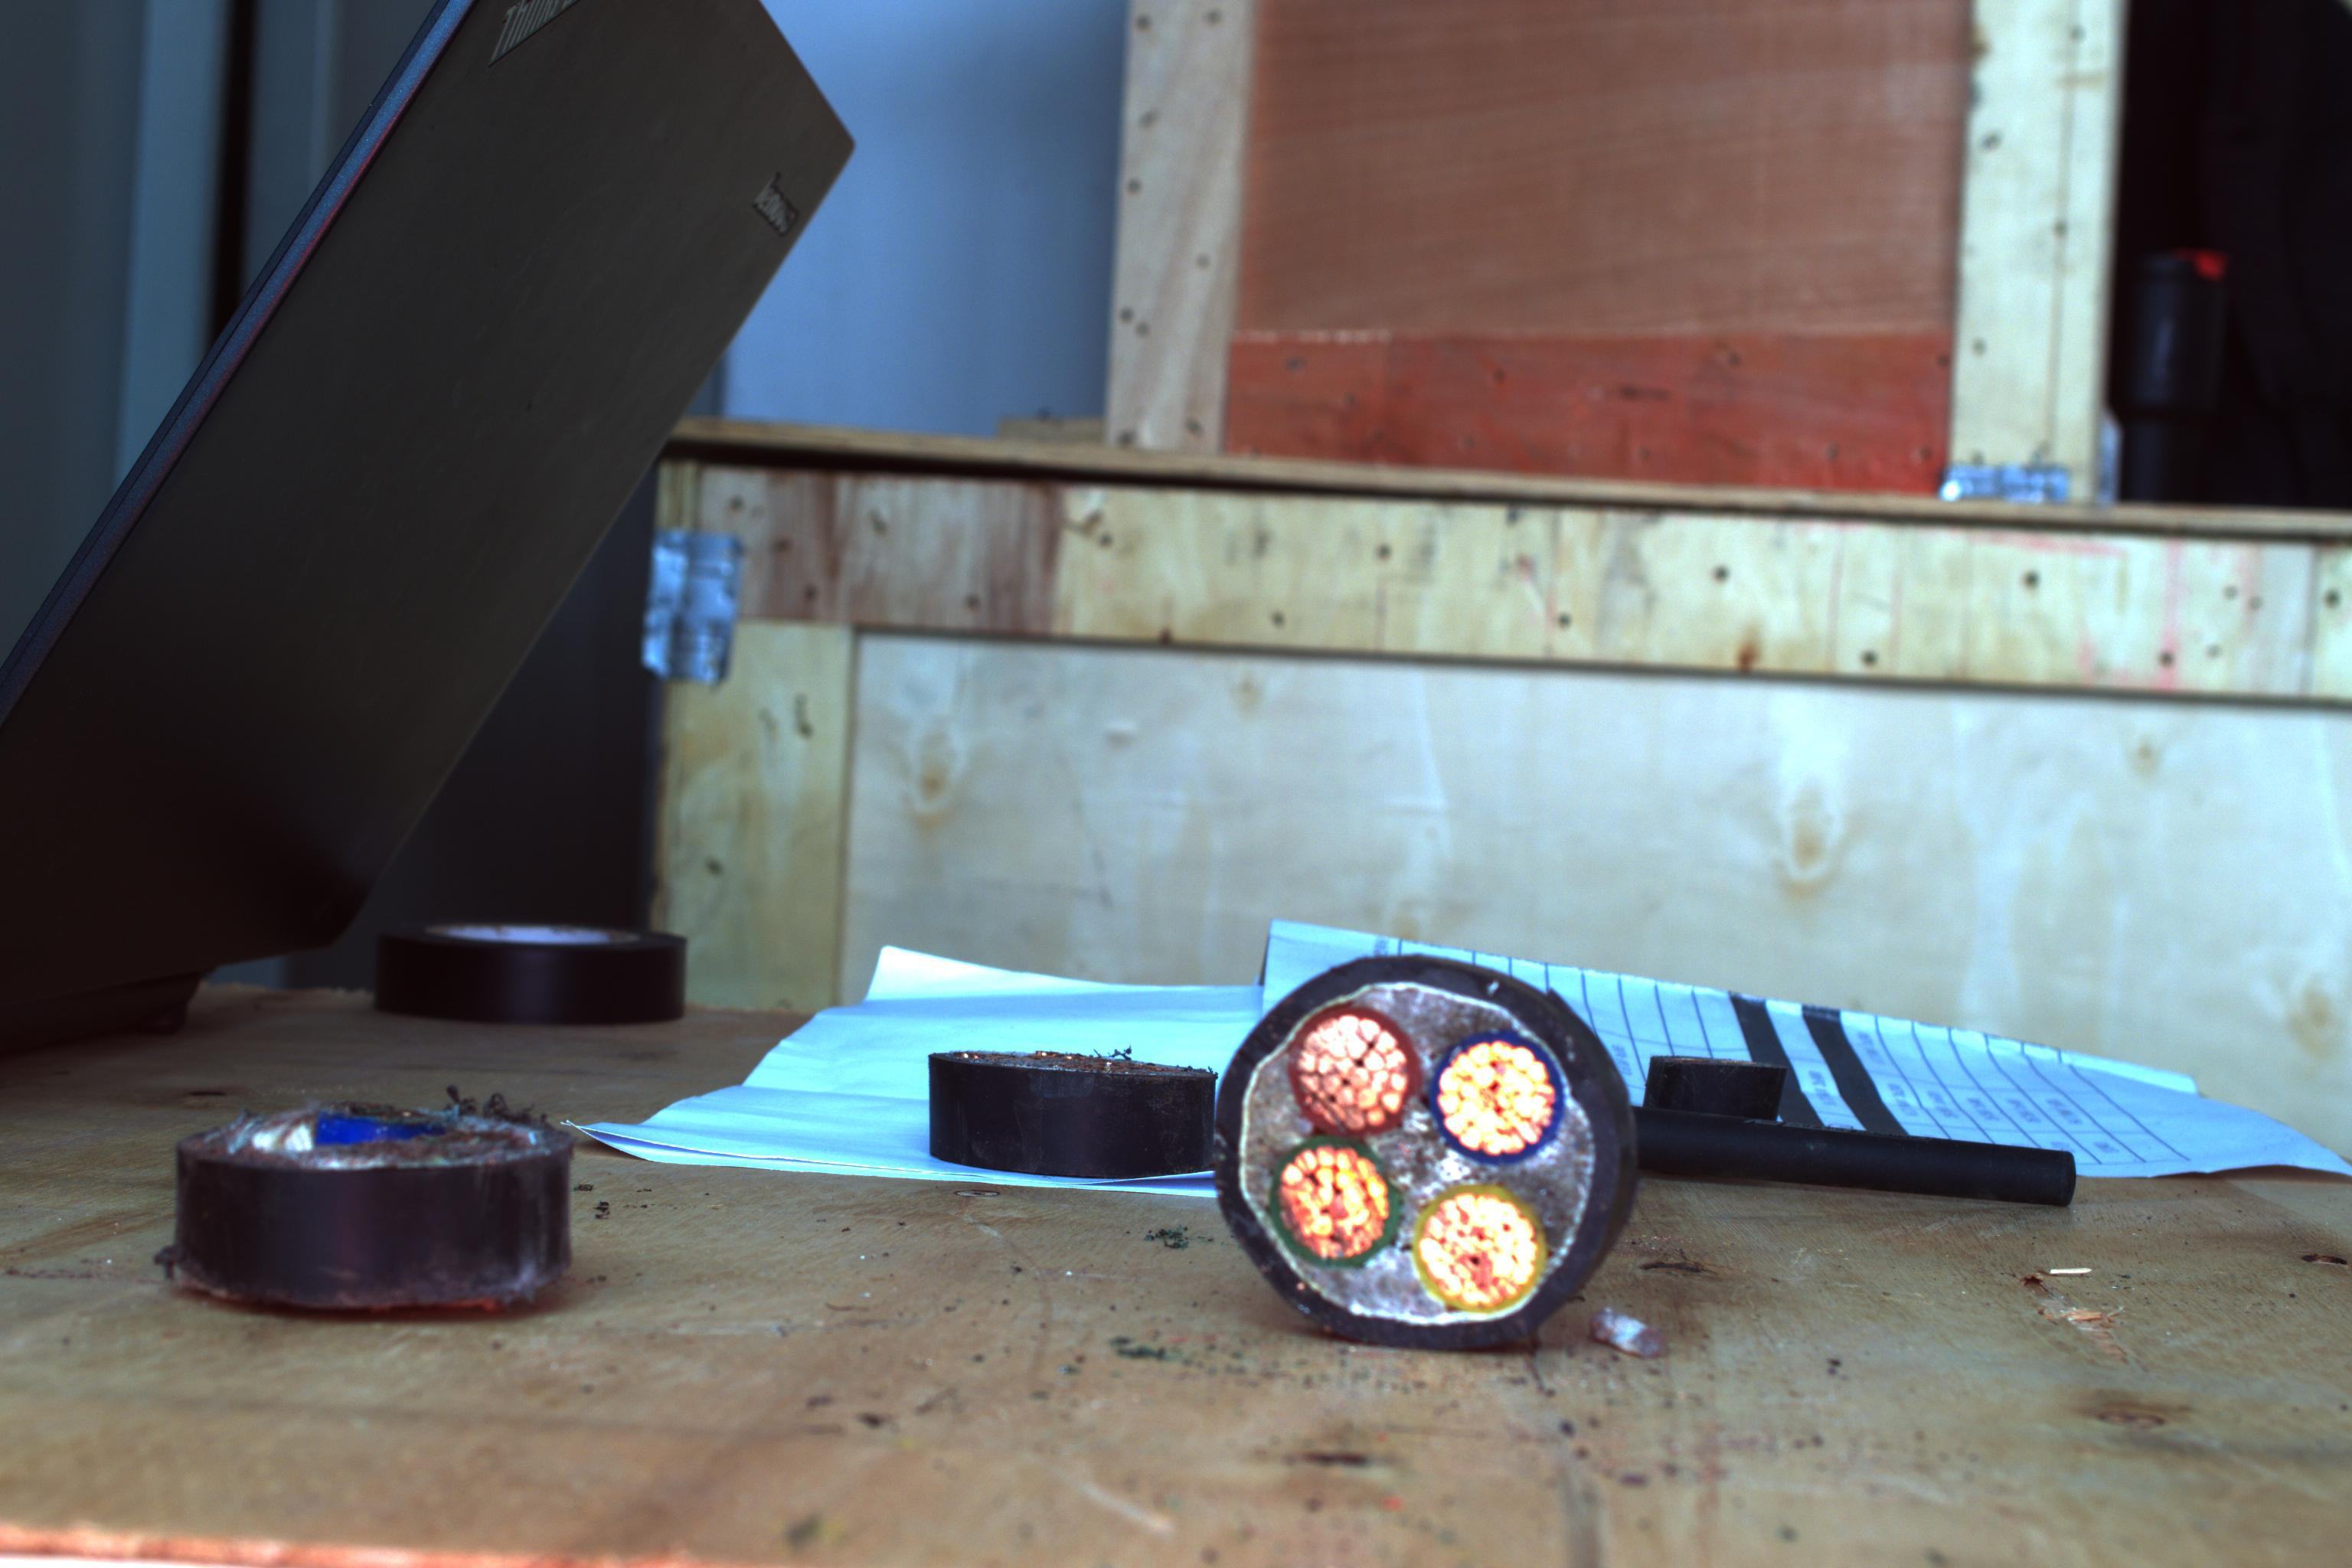YJV_0.6_1kV_4x120: (1202, 940, 1641, 1332)
